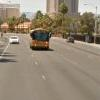Bus: (27, 25, 52, 53)
